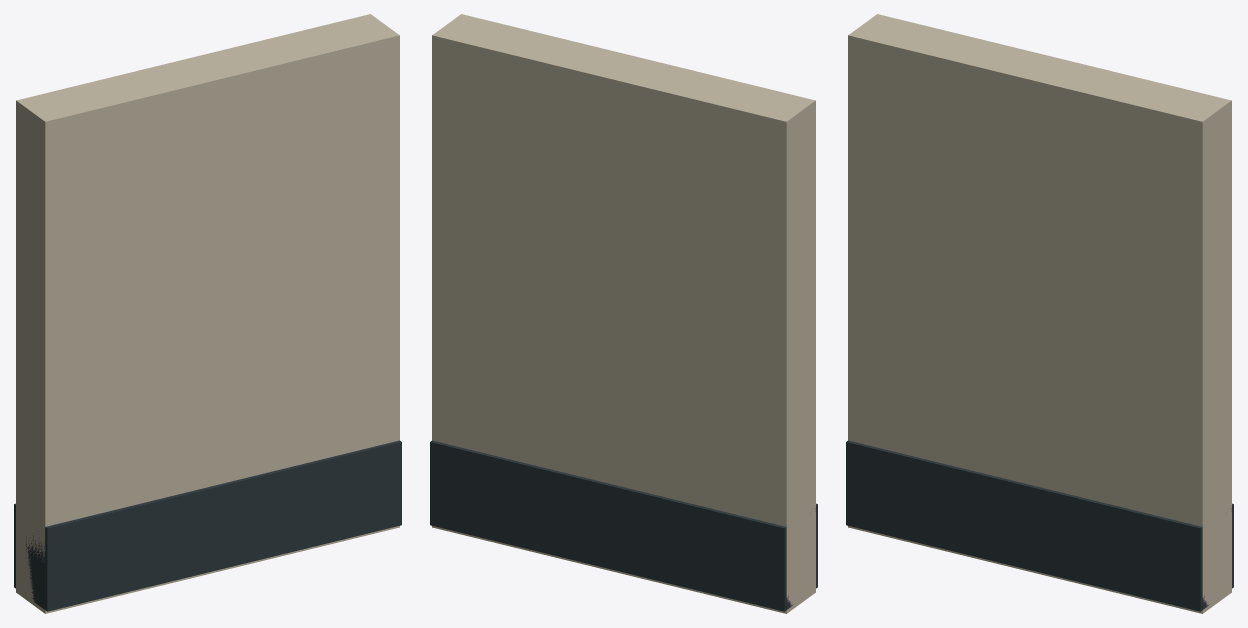
The model's file is factory-wall-bay-lod1.c786eec9410a.glb.
The picture shows the model from 3 angles, left to right: view 1: azimuth 30°, elevation 25°; view 2: azimuth 150°, elevation 25°; view 3: azimuth 330°, elevation 25°; orthographic projection.
Visible parts, largest first — view 1: body; view 2: body; view 3: body.
Boxes of the visible parts, x1,y1,x2,y2 form: body: (14, 14, 401, 613); body: (430, 14, 817, 613); body: (846, 14, 1233, 613).
Size of the model in its own units: 0.98 by 1.3 by 0.16.
